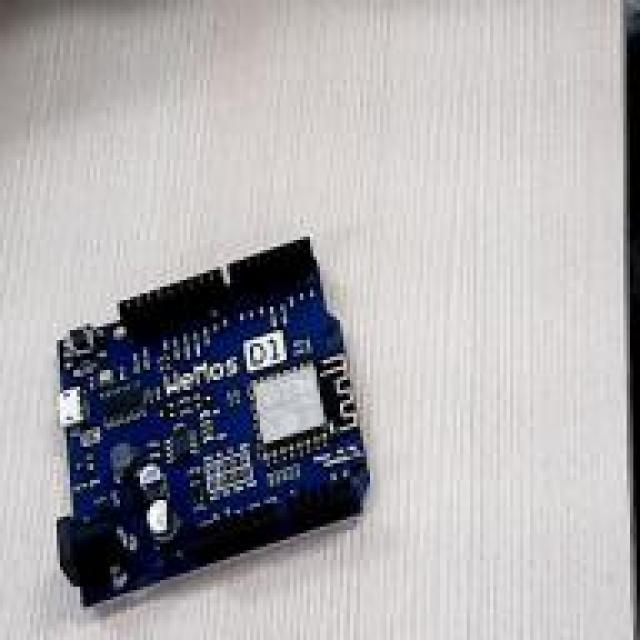Wemos: (58, 238, 368, 604)
